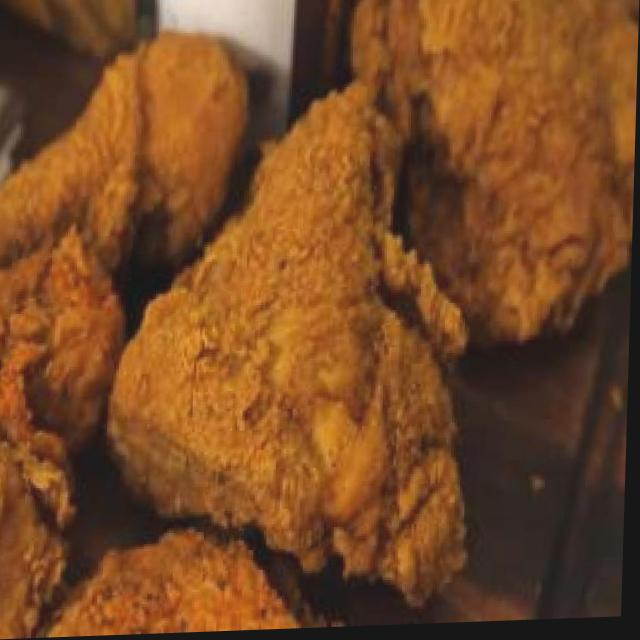fried chicken: (140, 46, 467, 556), (345, 0, 638, 335), (0, 18, 254, 310), (0, 233, 136, 640), (47, 527, 330, 638)
